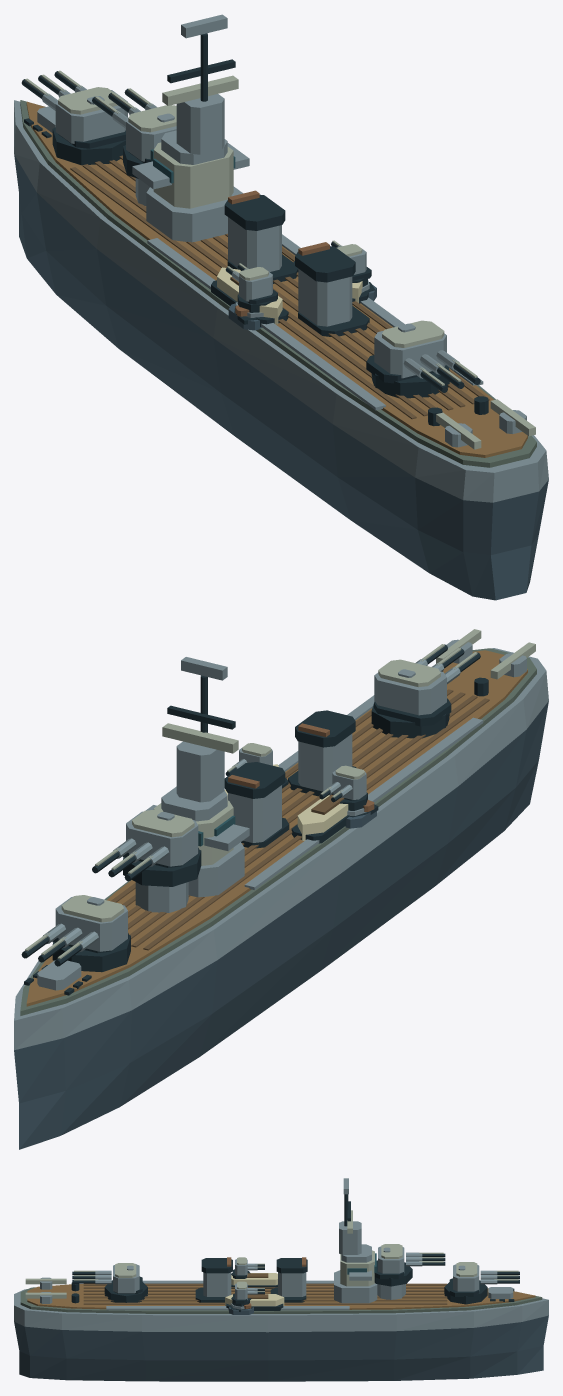
The model's file is historic-baltimore.glb.
The picture shows the model from 3 angles, top to bottom: view 1: azimuth 30°, elevation 25°; view 2: azimuth 150°, elevation 25°; view 3: azimuth 270°, elevation 25°; orthographic projection. The views are drawn at different scales.
Visible parts, largest first — view 1: historic-baltimore-historic-baltimore-geometry, historic-baltimore-part_bridge.012-geometry, historic-baltimore-turret_main_2.008-geometry, historic-baltimore-turret_main_0.009-geometry, historic-baltimore-historic_funnel_1.005-geometry, historic-baltimore-historic_funnel_0.013-geometry, historic-baltimore-turret_main_1.008-geometry, historic-baltimore-turret_aa_aa-port.014-geometry, historic-baltimore-turret_aa_aa-starboard.012-geometry; view 2: historic-baltimore-historic-baltimore-geometry, historic-baltimore-part_bridge.012-geometry, historic-baltimore-turret_main_2.008-geometry, historic-baltimore-turret_main_1.008-geometry, historic-baltimore-turret_main_0.009-geometry, historic-baltimore-historic_funnel_1.005-geometry, historic-baltimore-historic_funnel_0.013-geometry, historic-baltimore-turret_aa_aa-port.014-geometry, historic-baltimore-turret_aa_aa-starboard.012-geometry; view 3: historic-baltimore-historic-baltimore-geometry, historic-baltimore-part_bridge.012-geometry, historic-baltimore-turret_main_0.009-geometry, historic-baltimore-turret_main_2.008-geometry, historic-baltimore-turret_main_1.008-geometry, historic-baltimore-historic_funnel_1.005-geometry, historic-baltimore-historic_funnel_0.013-geometry, historic-baltimore-turret_aa_aa-starboard.012-geometry, historic-baltimore-turret_aa_aa-port.014-geometry.
Boxes of the visible parts, bbox=[...] form: historic-baltimore-historic-baltimore-geometry: bbox=[14, 100, 548, 600]; historic-baltimore-part_bridge.012-geometry: bbox=[132, 14, 249, 242]; historic-baltimore-turret_main_2.008-geometry: bbox=[366, 320, 480, 398]; historic-baltimore-turret_main_0.009-geometry: bbox=[21, 70, 127, 165]; historic-baltimore-historic_funnel_1.005-geometry: bbox=[295, 242, 369, 336]; historic-baltimore-historic_funnel_0.013-geometry: bbox=[224, 190, 297, 283]; historic-baltimore-turret_main_1.008-geometry: bbox=[92, 88, 176, 178]; historic-baltimore-turret_aa_aa-port.014-geometry: bbox=[225, 263, 277, 312]; historic-baltimore-turret_aa_aa-starboard.012-geometry: bbox=[331, 240, 371, 286]; historic-baltimore-historic-baltimore-geometry: bbox=[14, 629, 548, 1149]; historic-baltimore-part_bridge.012-geometry: bbox=[146, 657, 249, 897]; historic-baltimore-turret_main_2.008-geometry: bbox=[371, 644, 480, 738]; historic-baltimore-turret_main_1.008-geometry: bbox=[92, 809, 201, 886]; historic-baltimore-turret_main_0.009-geometry: bbox=[21, 895, 130, 972]; historic-baltimore-historic_funnel_1.005-geometry: bbox=[288, 710, 356, 796]; historic-baltimore-historic_funnel_0.013-geometry: bbox=[224, 762, 289, 848]; historic-baltimore-turret_aa_aa-port.014-geometry: bbox=[319, 765, 367, 810]; historic-baltimore-turret_aa_aa-starboard.012-geometry: bbox=[225, 743, 272, 775]; historic-baltimore-historic-baltimore-geometry: bbox=[14, 1273, 548, 1381]; historic-baltimore-part_bridge.012-geometry: bbox=[334, 1178, 377, 1303]; historic-baltimore-turret_main_0.009-geometry: bbox=[444, 1262, 519, 1304]; historic-baltimore-turret_main_2.008-geometry: bbox=[72, 1263, 147, 1302]; historic-baltimore-turret_main_1.008-geometry: bbox=[374, 1244, 445, 1286]; historic-baltimore-historic_funnel_1.005-geometry: bbox=[195, 1257, 232, 1302]; historic-baltimore-historic_funnel_0.013-geometry: bbox=[270, 1257, 307, 1302]; historic-baltimore-turret_aa_aa-starboard.012-geometry: bbox=[231, 1281, 264, 1306]; historic-baltimore-turret_aa_aa-port.014-geometry: bbox=[231, 1257, 264, 1278].
Size of the model in its own units: 0.6721 by 1.66 by 4.32.
